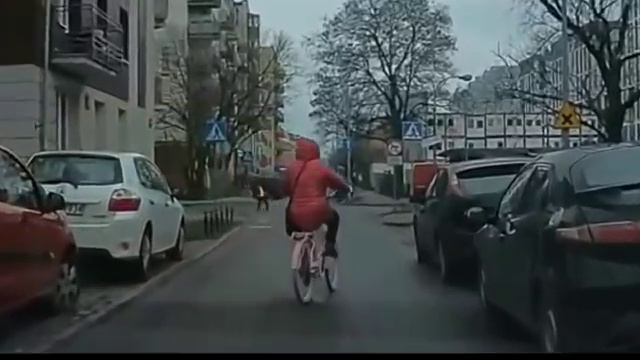cyclist_back: (282, 133, 343, 300)
